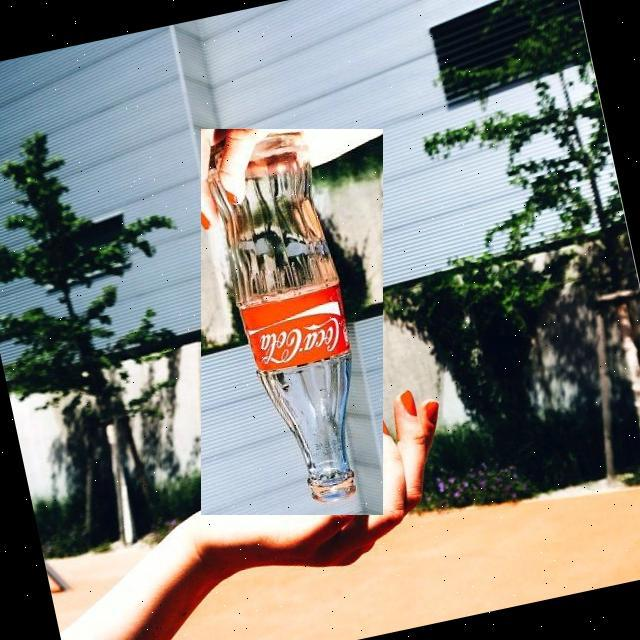coca-cola: (201, 129, 383, 515)
